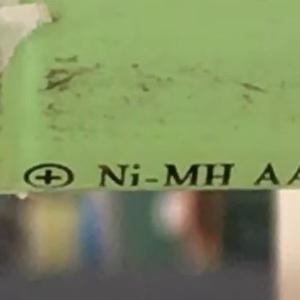NI-MH: (65, 153, 244, 209)
